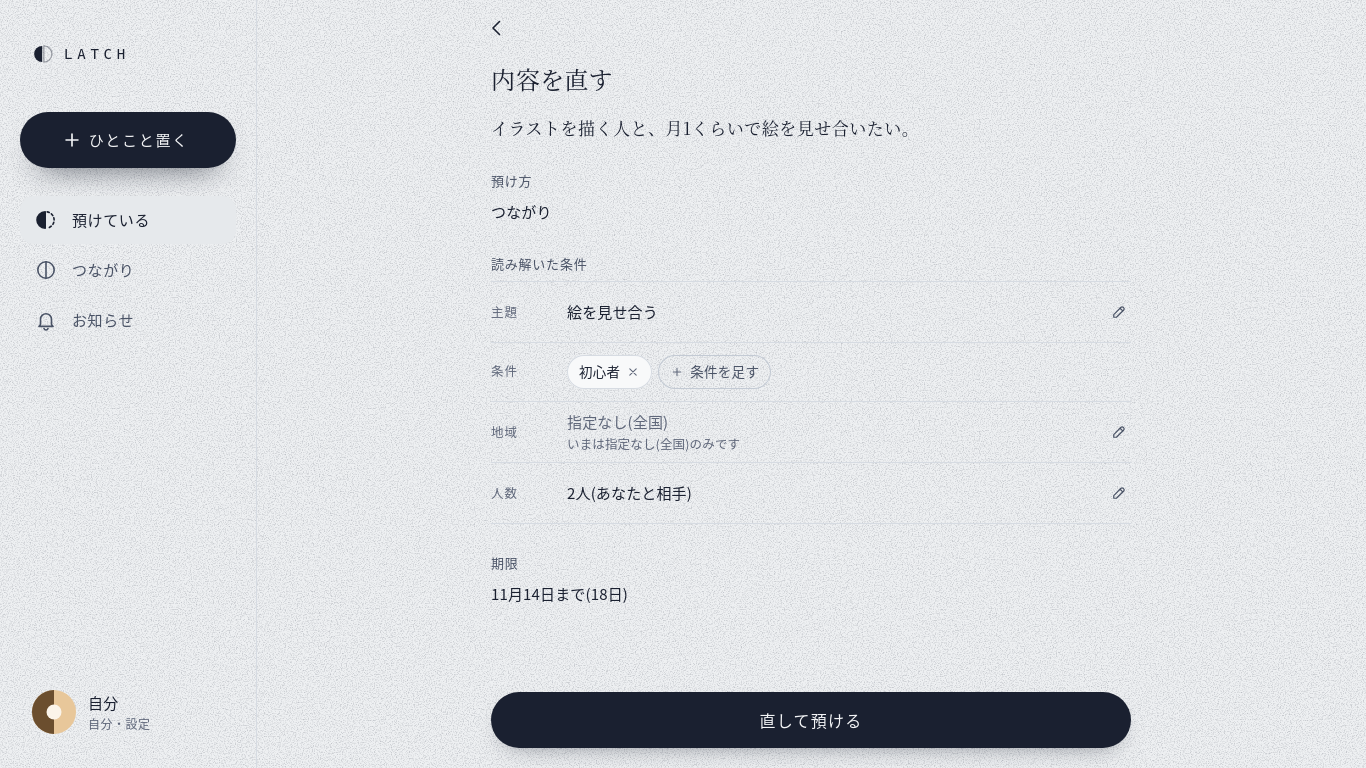
Test: IntentEdit › 確認の[やめる]ではPATCHしない
Click the button named "主題を直す" at point(1119, 312), box [1097, 290, 1141, 334]
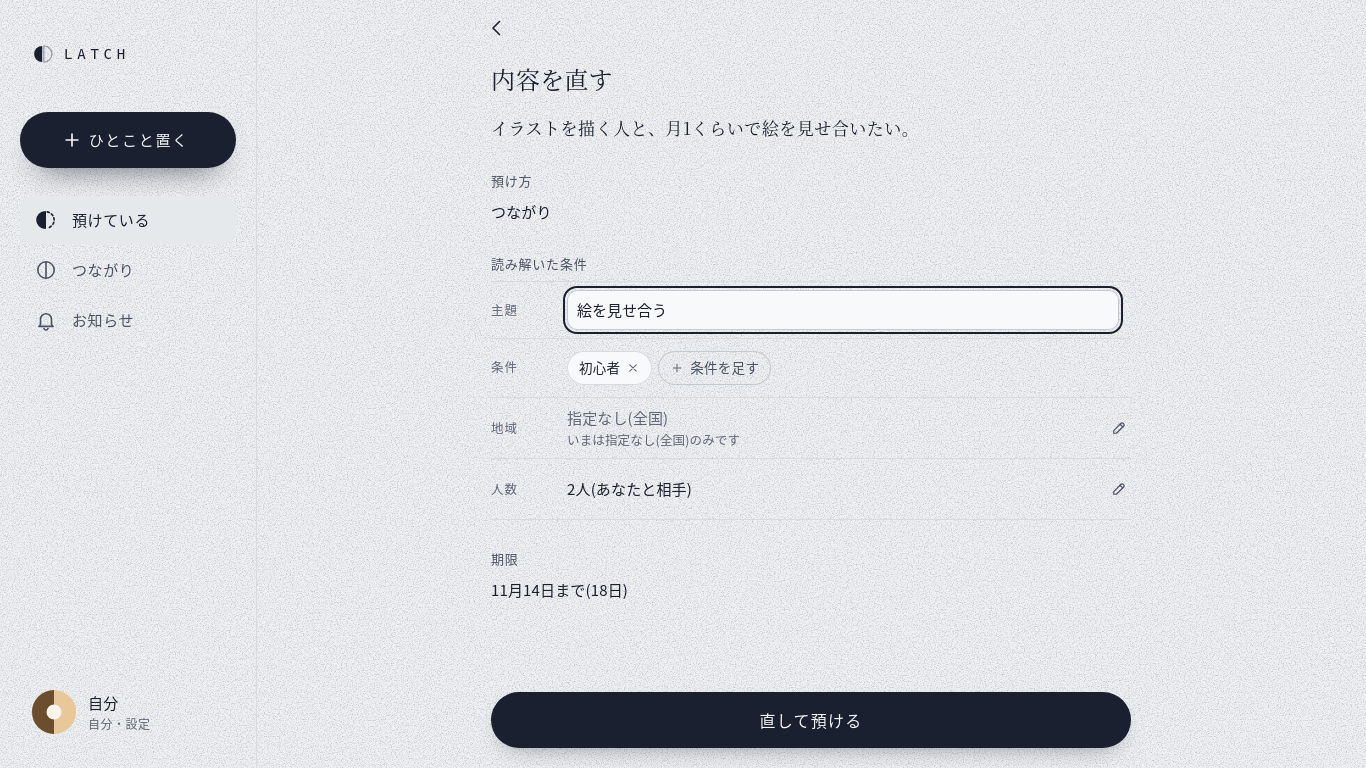
Replace the text in the field named "主題" with "新しい主題" at point(843, 310), box [567, 290, 1119, 330]
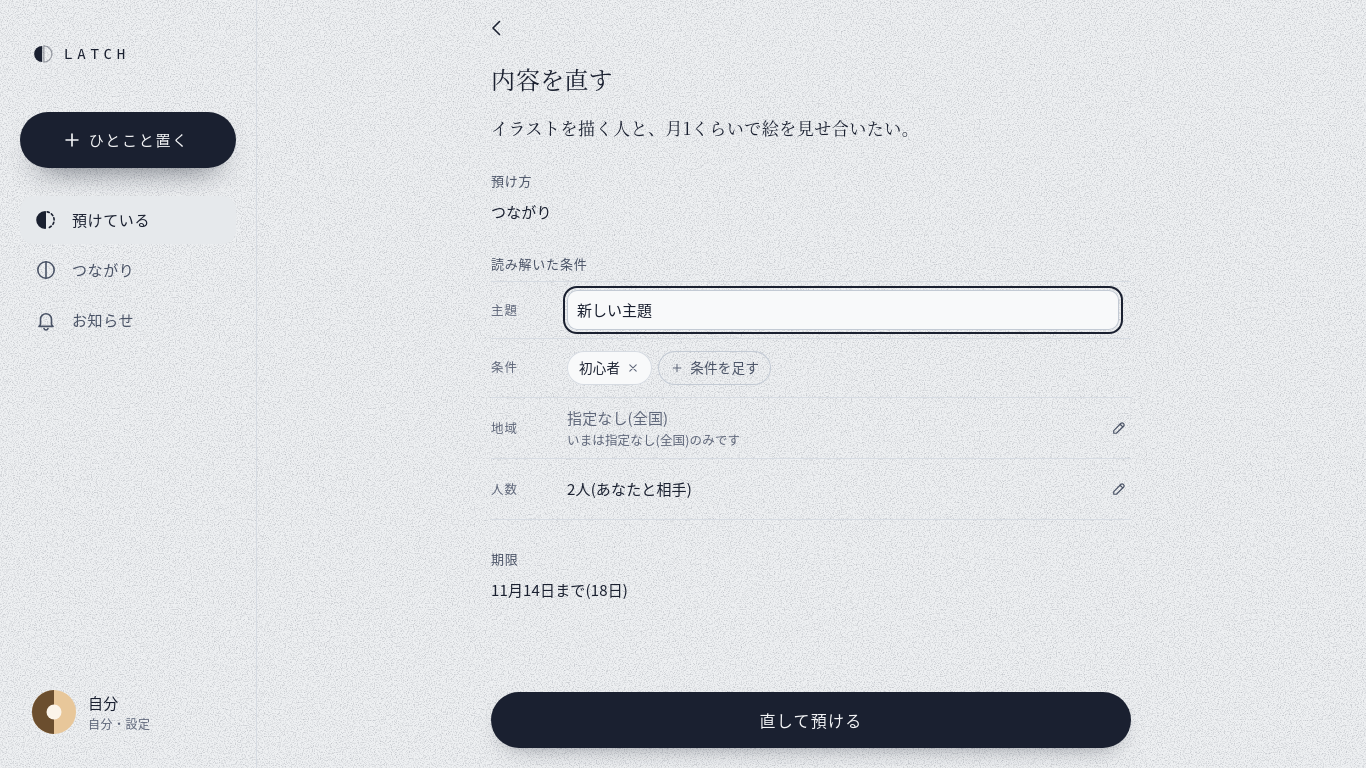
Press Enter in the field named "主題", box [567, 290, 1119, 330]
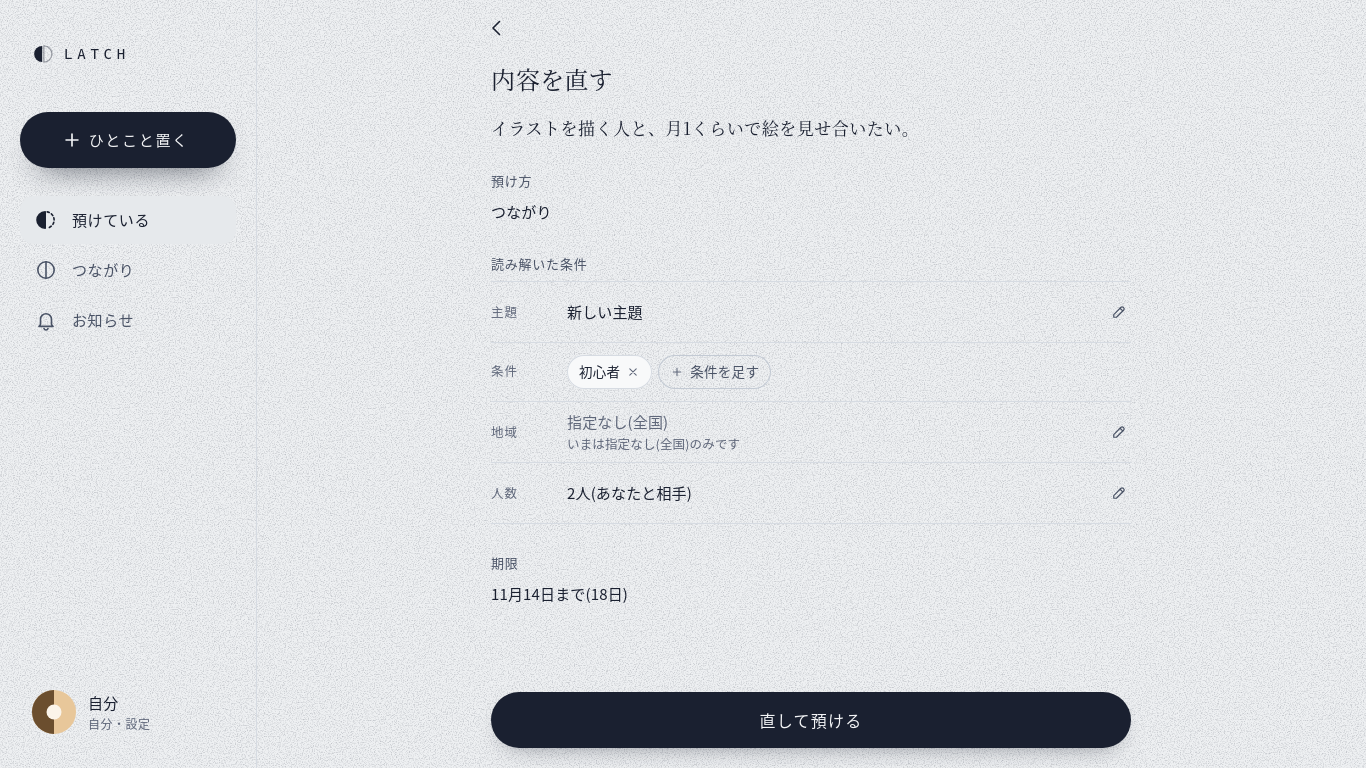
Click the button "直して預ける" at point(811, 720), box [491, 692, 1131, 748]
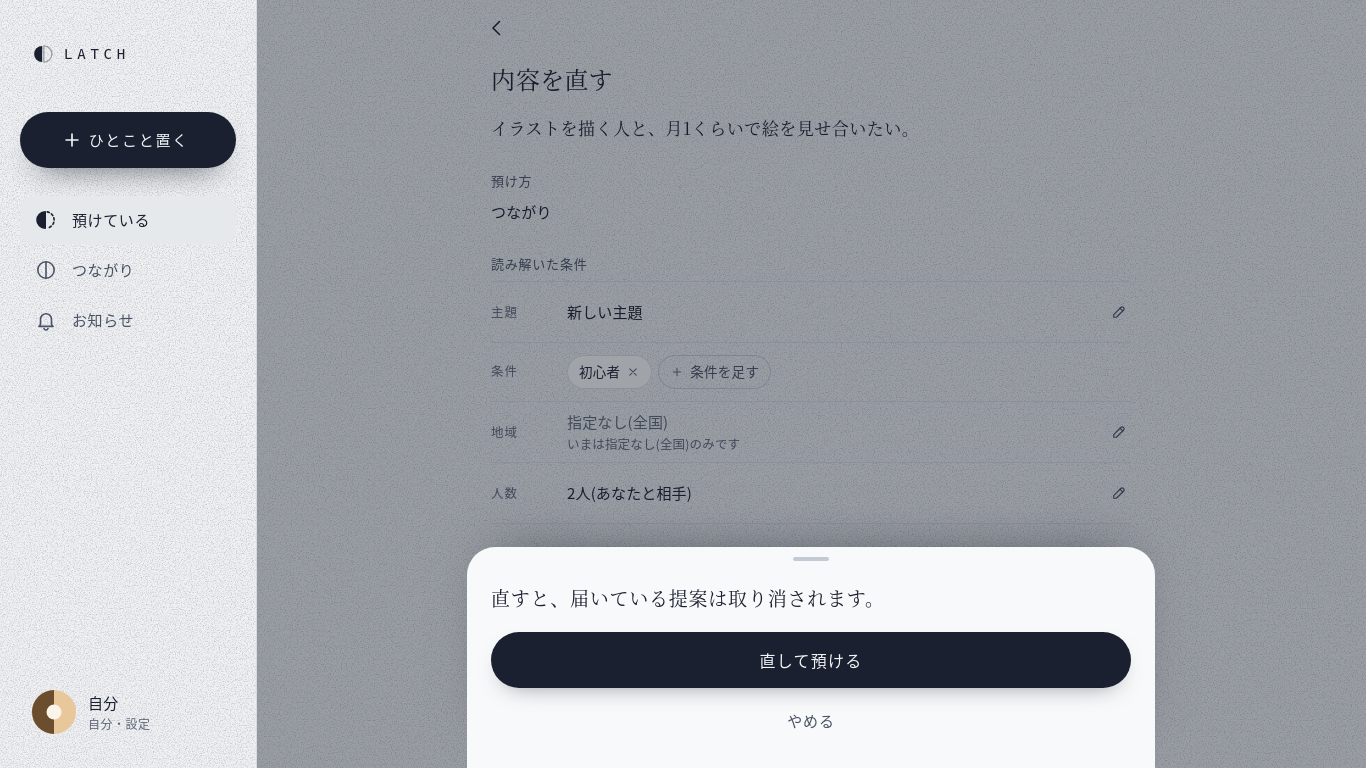
Click the button "やめる" at point(811, 720), box [491, 696, 1131, 744]
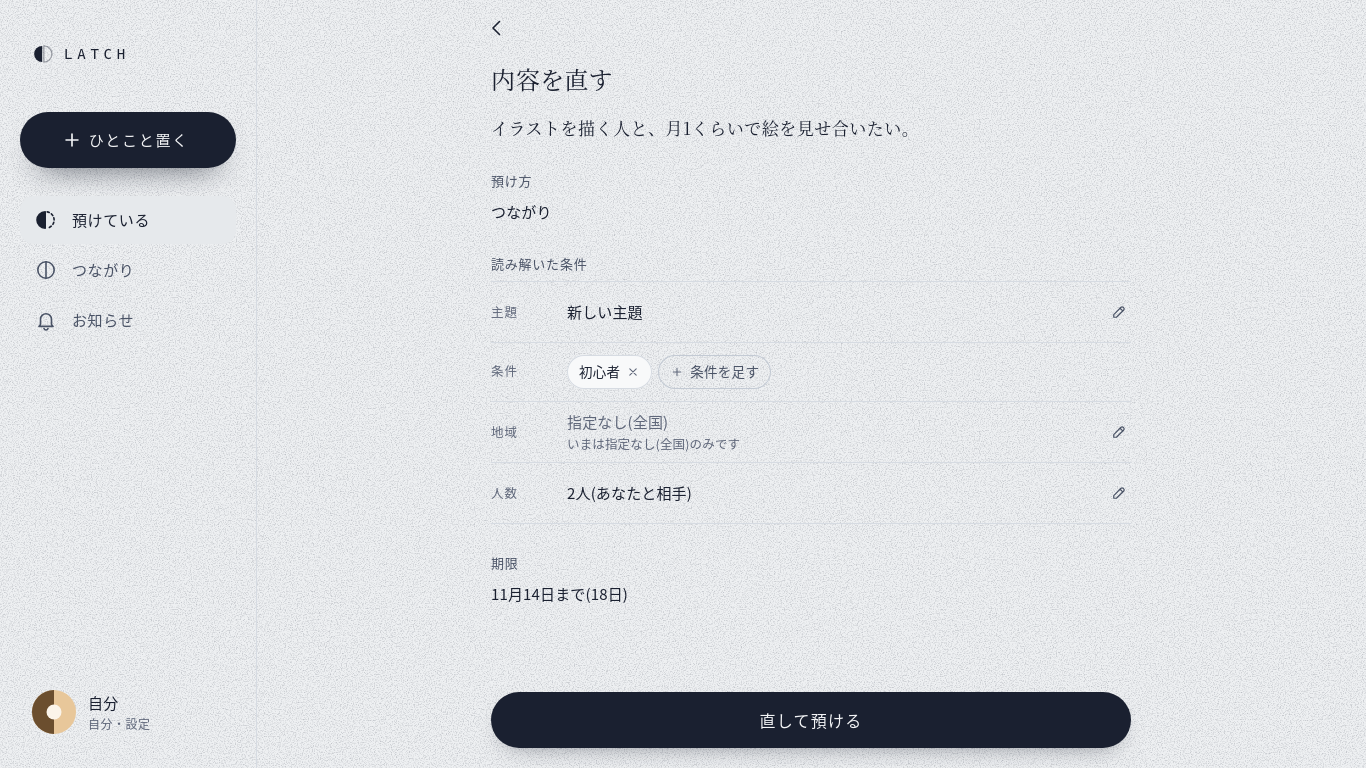
Expected: the dialog is gone
